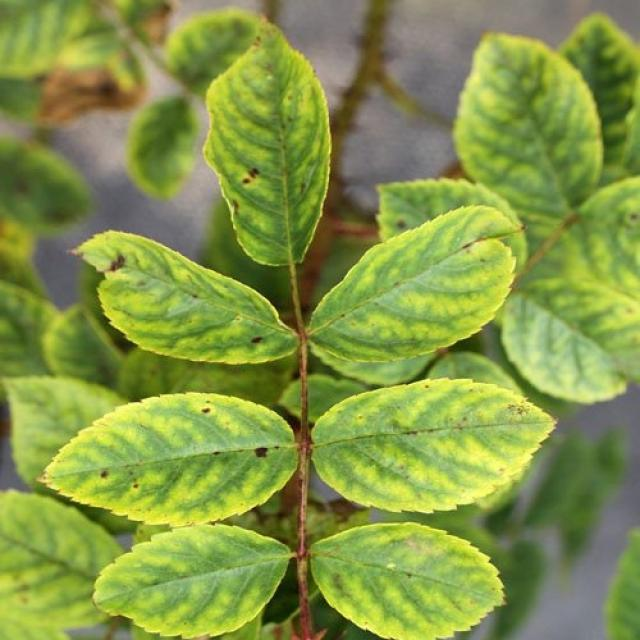Chlorosis: (29, 33, 578, 640)
